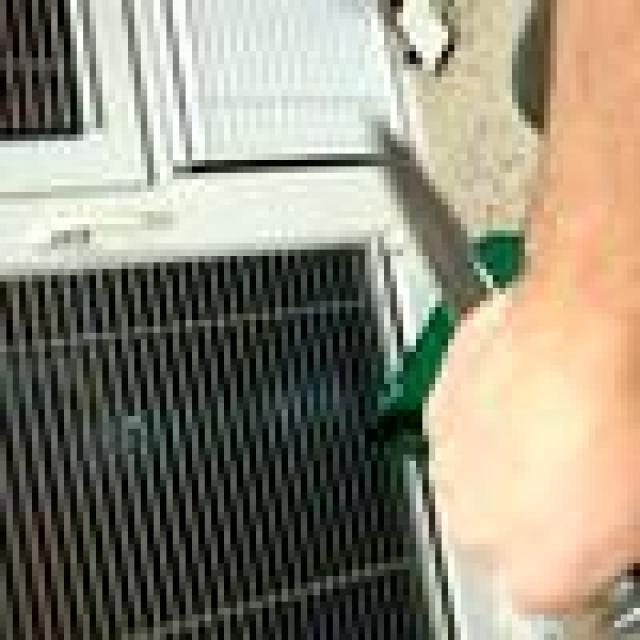Knife: (358, 108, 512, 346)
